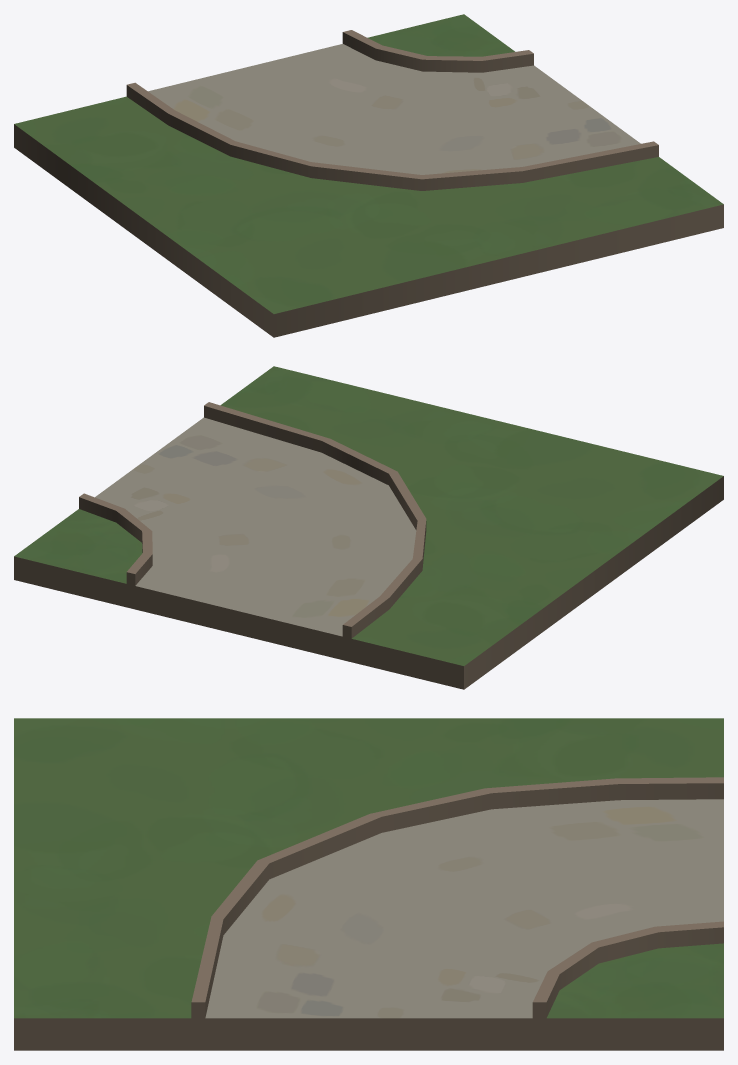
Rendered from Road_02.fbx.
3 renders of one model, top to bottom at view 1: azimuth 30°, elevation 25°; view 2: azimuth 150°, elevation 25°; view 3: azimuth 270°, elevation 25°, orthographic. The views are drawn at different scales.
Parts seen in each view (by area): view 1: Road_02; view 2: Road_02; view 3: Road_02.
Part boxes in pixels (left/top/right/bottom): Road_02: left=14, top=14, right=723, bottom=337; Road_02: left=14, top=366, right=723, bottom=689; Road_02: left=14, top=718, right=723, bottom=1050.
Bounding box in the file's own units: 400 × 30 × 400.
1 material, 1 textured.
